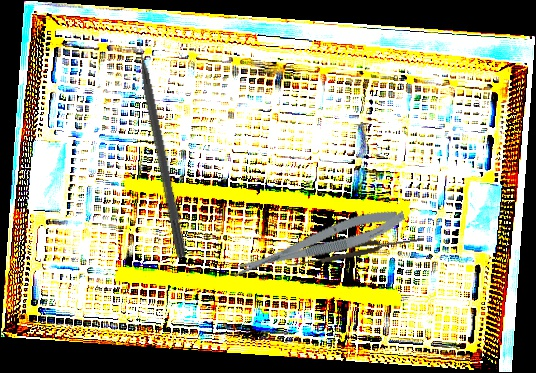Micro Scissor: (228, 201, 409, 284)
Pusher: (130, 22, 190, 259)
Tissue Forceps: (287, 231, 426, 268)
